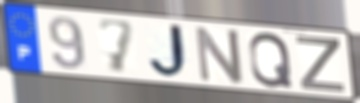7: (96, 17, 137, 77)
9: (46, 14, 88, 72)
J: (147, 23, 194, 81)
N: (193, 24, 246, 86)
Q: (247, 30, 295, 89)
Z: (294, 34, 348, 95)
